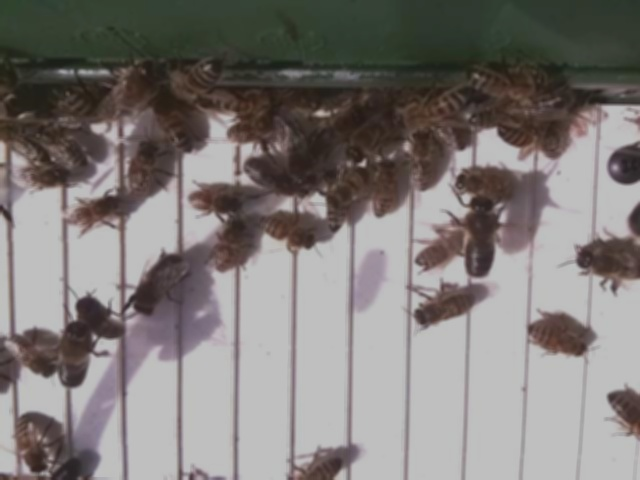Drone: (129, 249, 186, 322), (462, 193, 500, 283), (240, 156, 311, 200), (56, 321, 94, 394), (572, 245, 640, 284)
Worker: (10, 413, 54, 476), (410, 289, 477, 329), (522, 321, 590, 360), (151, 101, 198, 156), (5, 330, 55, 380), (7, 161, 78, 195), (257, 215, 320, 252), (210, 217, 246, 277), (62, 195, 123, 230), (126, 140, 158, 204), (404, 132, 434, 197), (185, 189, 244, 218), (370, 153, 394, 222), (603, 392, 640, 434)
